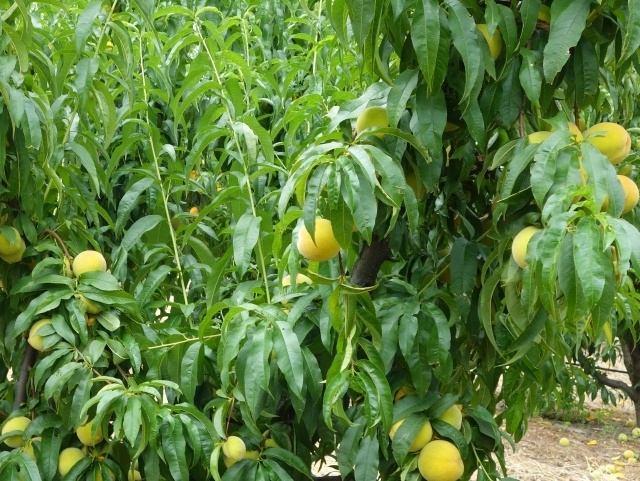peach: (295, 212, 345, 269), (389, 409, 438, 459), (583, 117, 633, 166), (415, 435, 466, 481), (507, 216, 542, 273), (598, 169, 638, 217), (475, 12, 510, 65), (70, 245, 113, 285), (24, 316, 63, 357), (353, 102, 396, 139), (73, 411, 108, 451), (435, 394, 469, 431), (1, 414, 34, 451), (55, 443, 89, 477), (14, 427, 44, 461), (1, 224, 27, 259), (219, 434, 249, 460), (1, 239, 29, 266)
